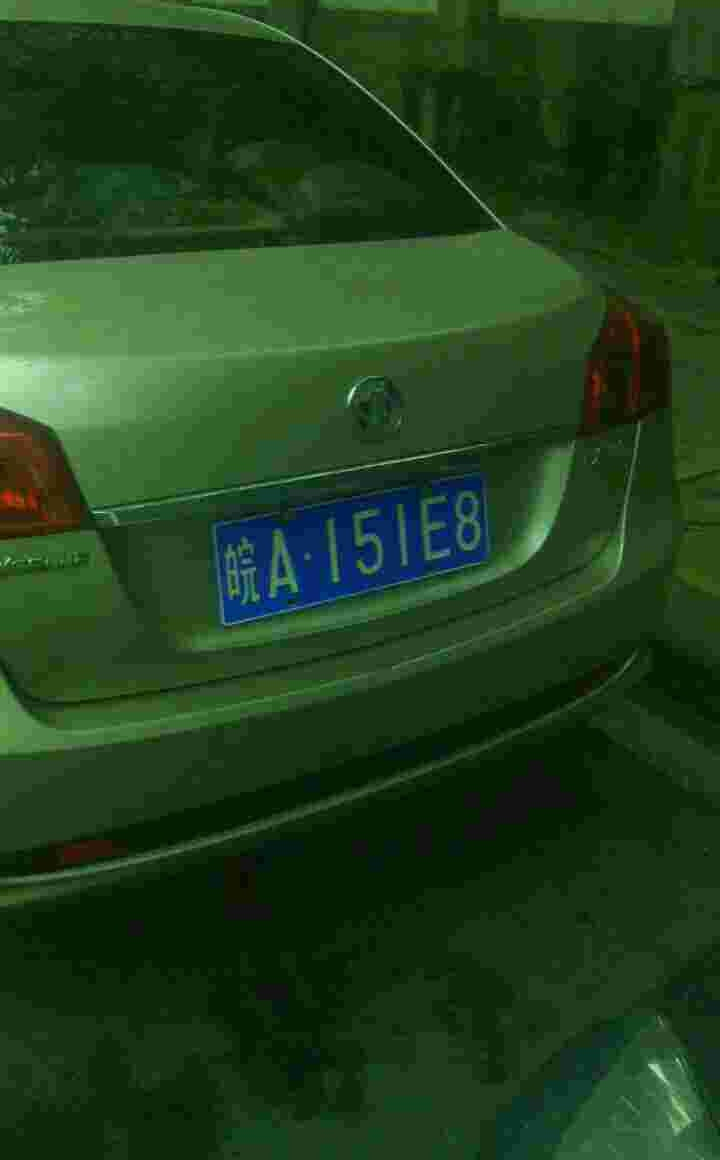car: (198, 482, 507, 578)
